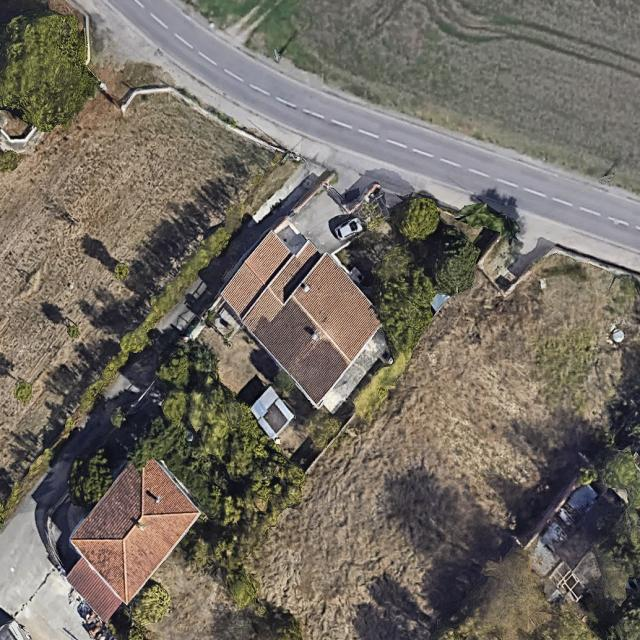maison: (204, 212, 402, 409), (41, 443, 211, 626)
